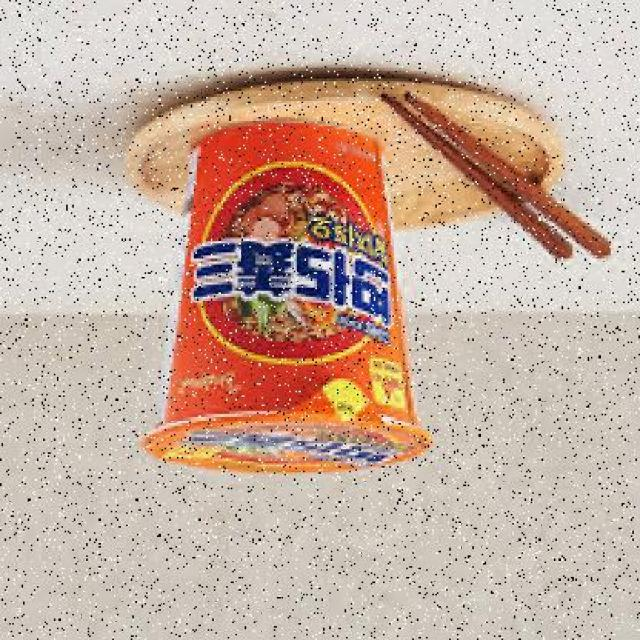Miscellaneous: (134, 116, 428, 492)
